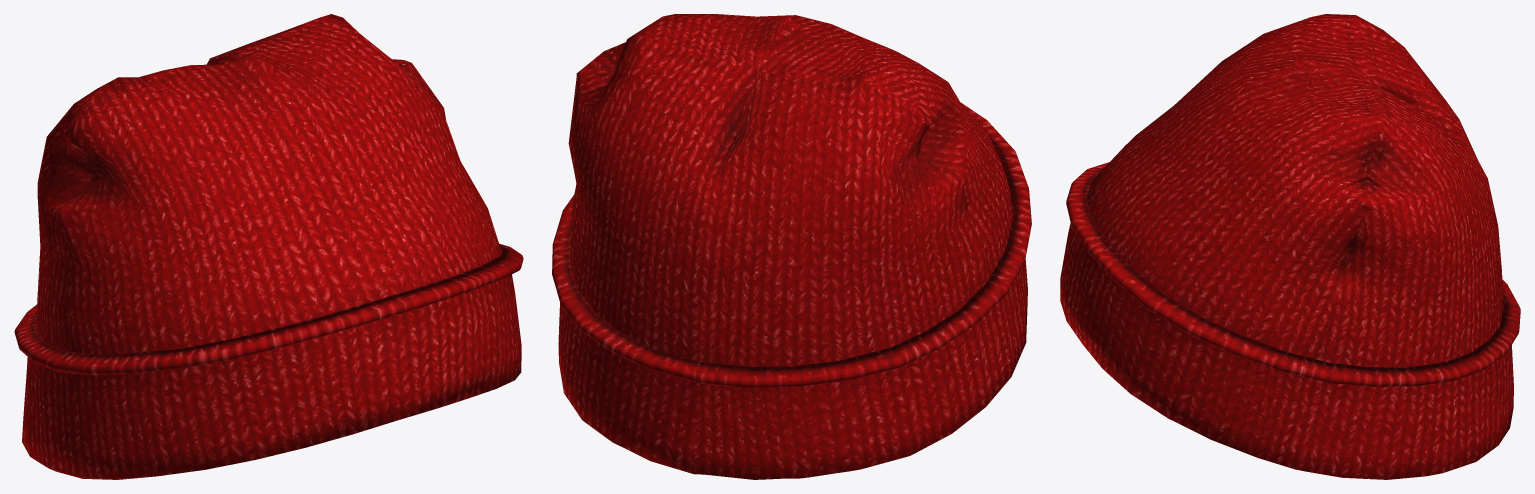
3 views of the same model, side by side, from view 1: azimuth 30°, elevation 25°; view 2: azimuth 150°, elevation 25°; view 3: azimuth 270°, elevation 25° (orthographic). The views are drawn at different scales.
Visible parts, largest first — view 1: Beanie LP.003; view 2: Beanie LP.003; view 3: Beanie LP.003.
Part boxes in pixels (x1=…): Beanie LP.003: x1=14, y1=14, x2=523, y2=479; Beanie LP.003: x1=552, y1=14, x2=1031, y2=479; Beanie LP.003: x1=1060, y1=14, x2=1520, y2=479.
Size of the model in its own units: 0.0136 by 0.0117 by 0.0134.
1 material, 1 textured.
